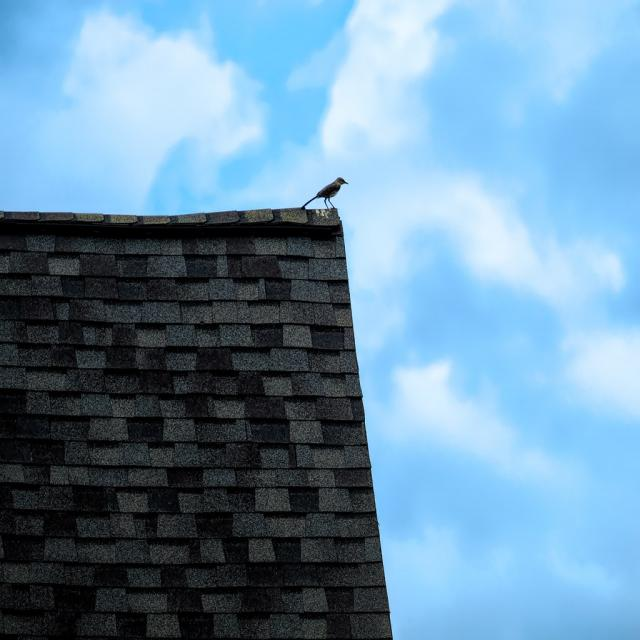bird: (301, 175, 350, 212)
